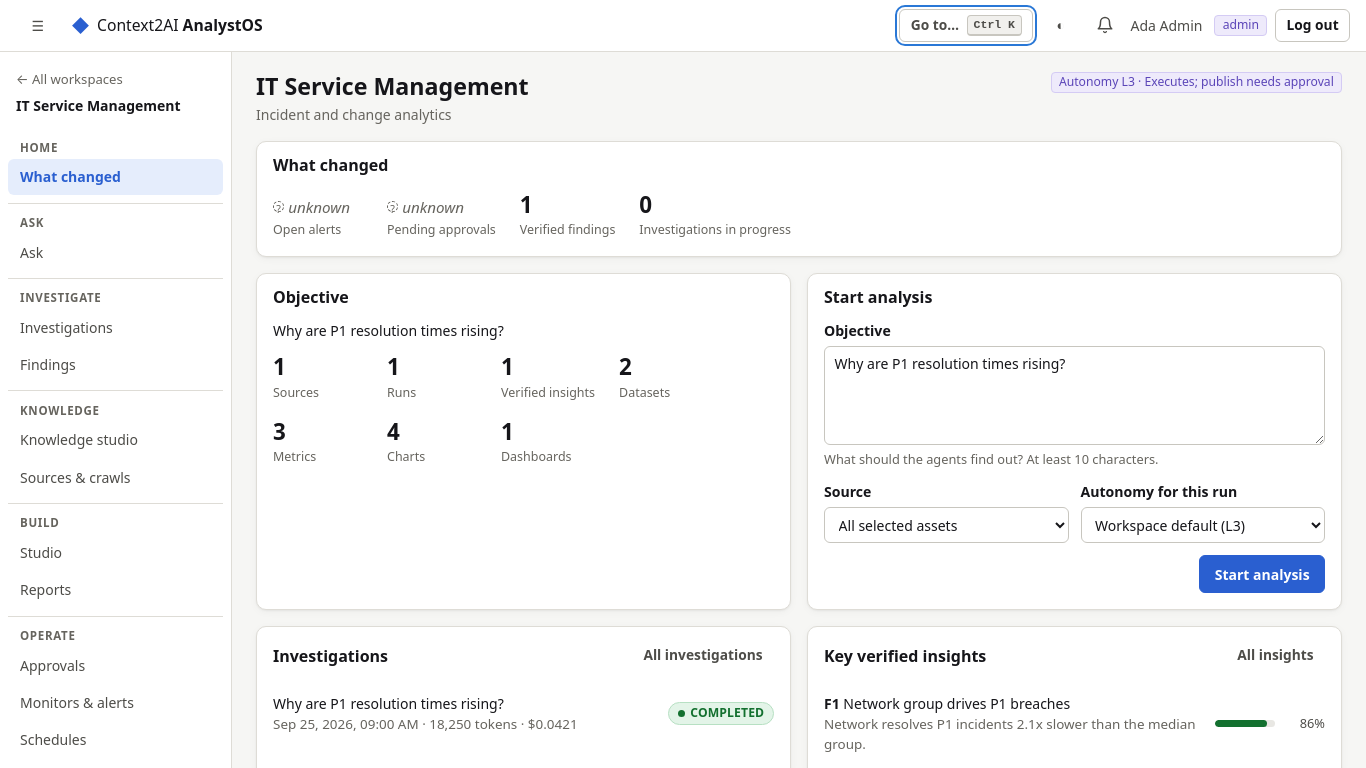
Test case: Ctrl/Cmd-K command palette › opens with Ctrl-K as a modal dialog, navigates with the keyboard and closes with Esc
The image size is (1366, 768).
Expected: the heading "IT Service Management" is shown, [256, 72, 529, 101]
Press k
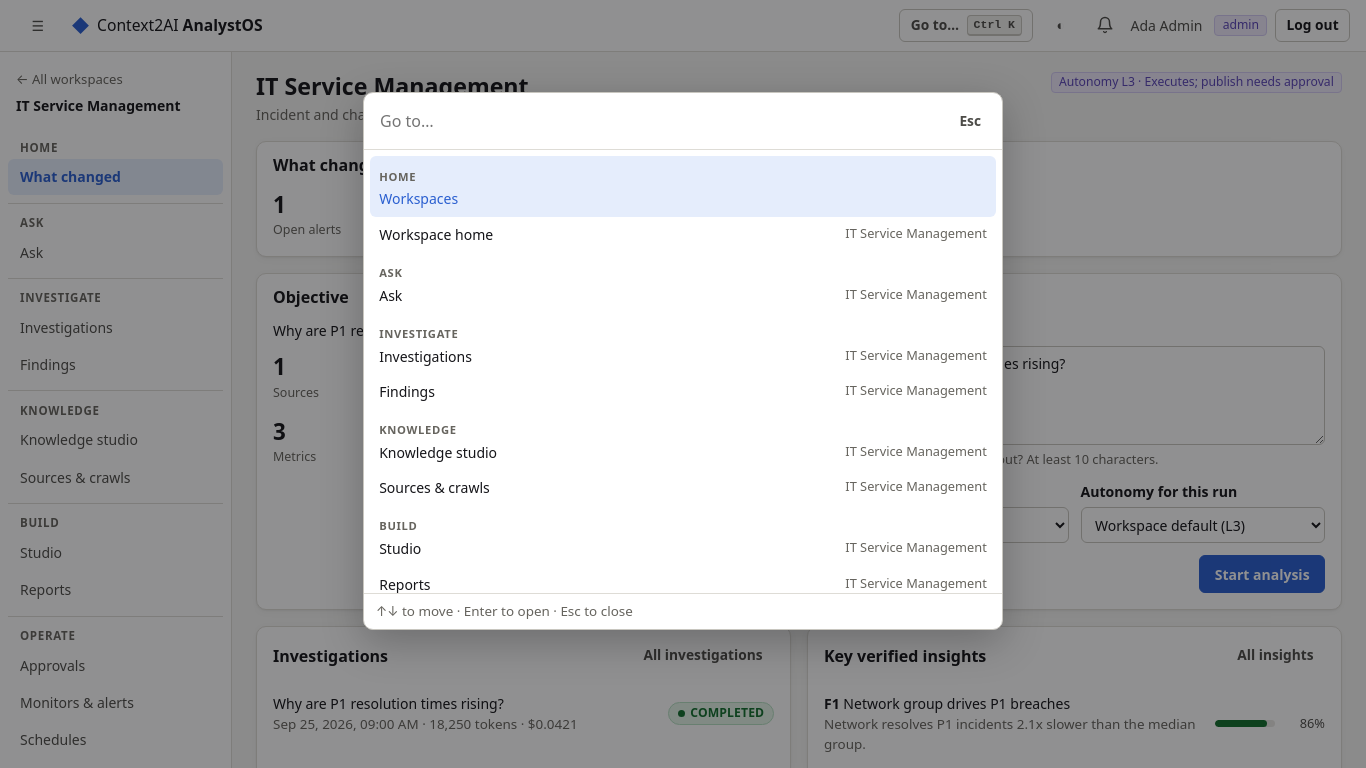
Type "catalog" into the dropdown.
click(657, 121); type("catalog")  # box [374, 103, 940, 140]
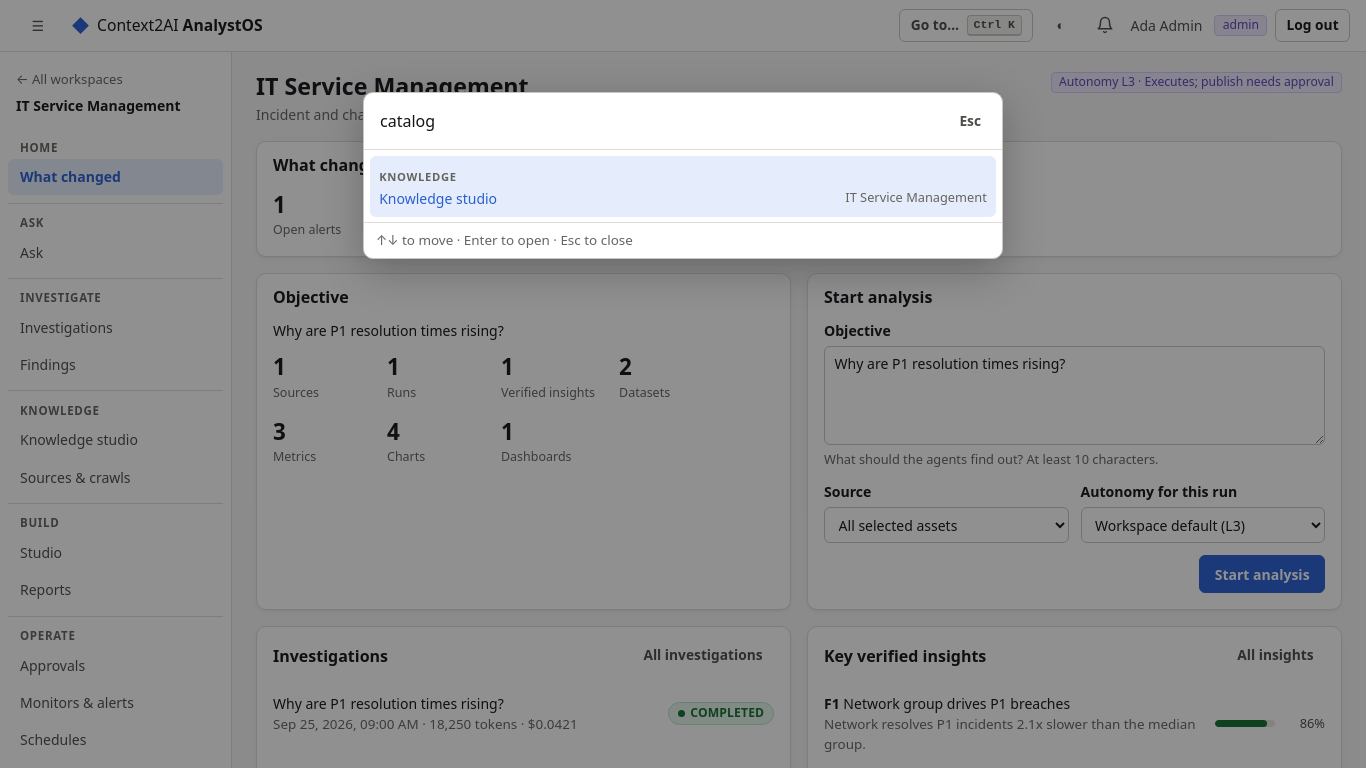
Now the number of options is 1, box [370, 156, 996, 217]
Press Enter in the dropdown, box [374, 103, 940, 140]
(page scrolled)
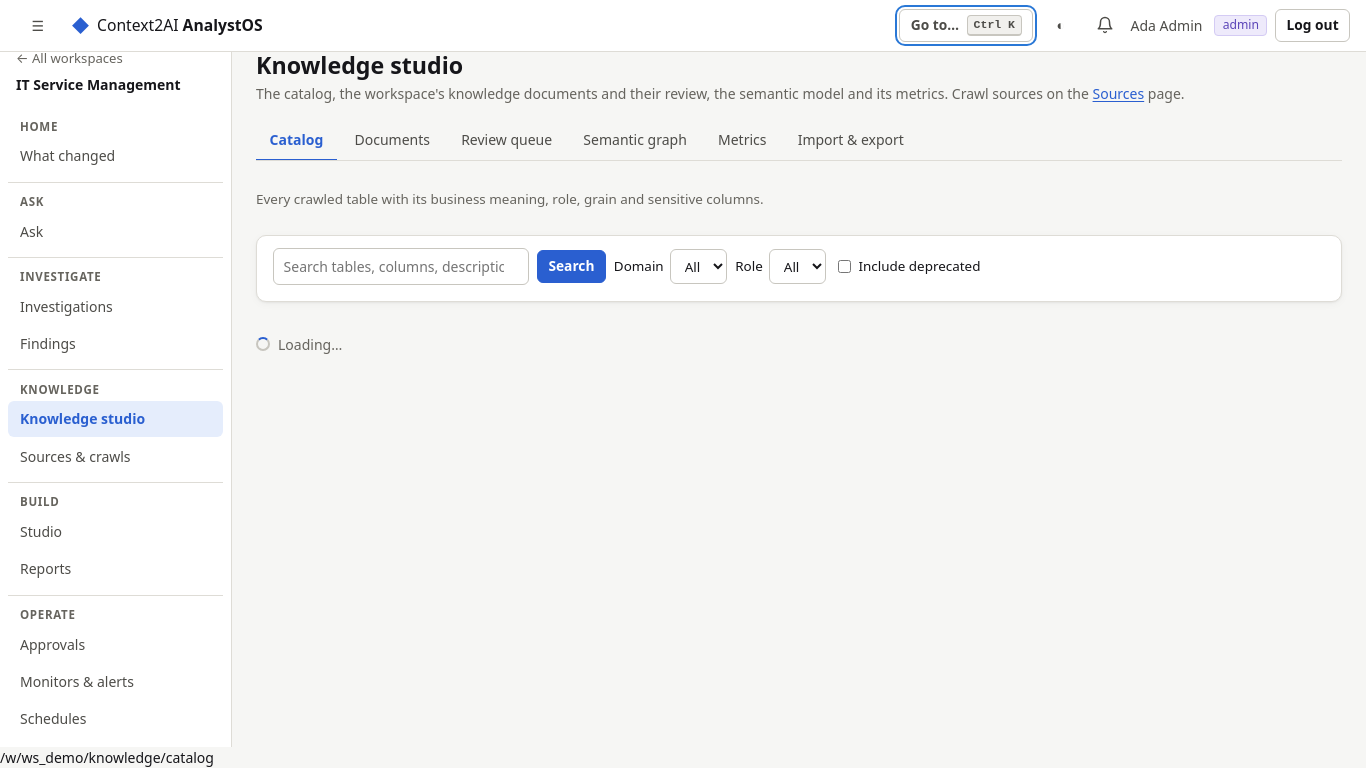
Now the dialog is gone
Press K
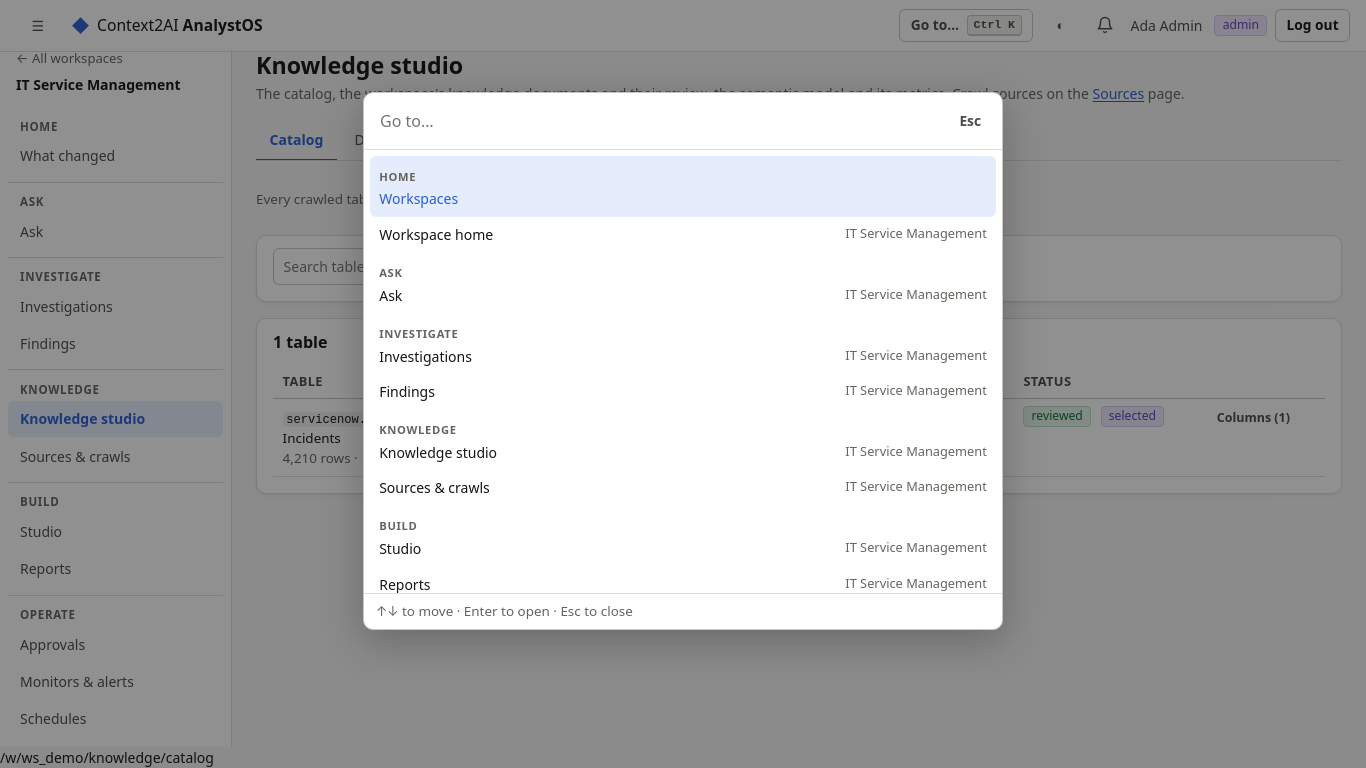
Press ArrowDown in the dropdown, box [374, 103, 940, 140]
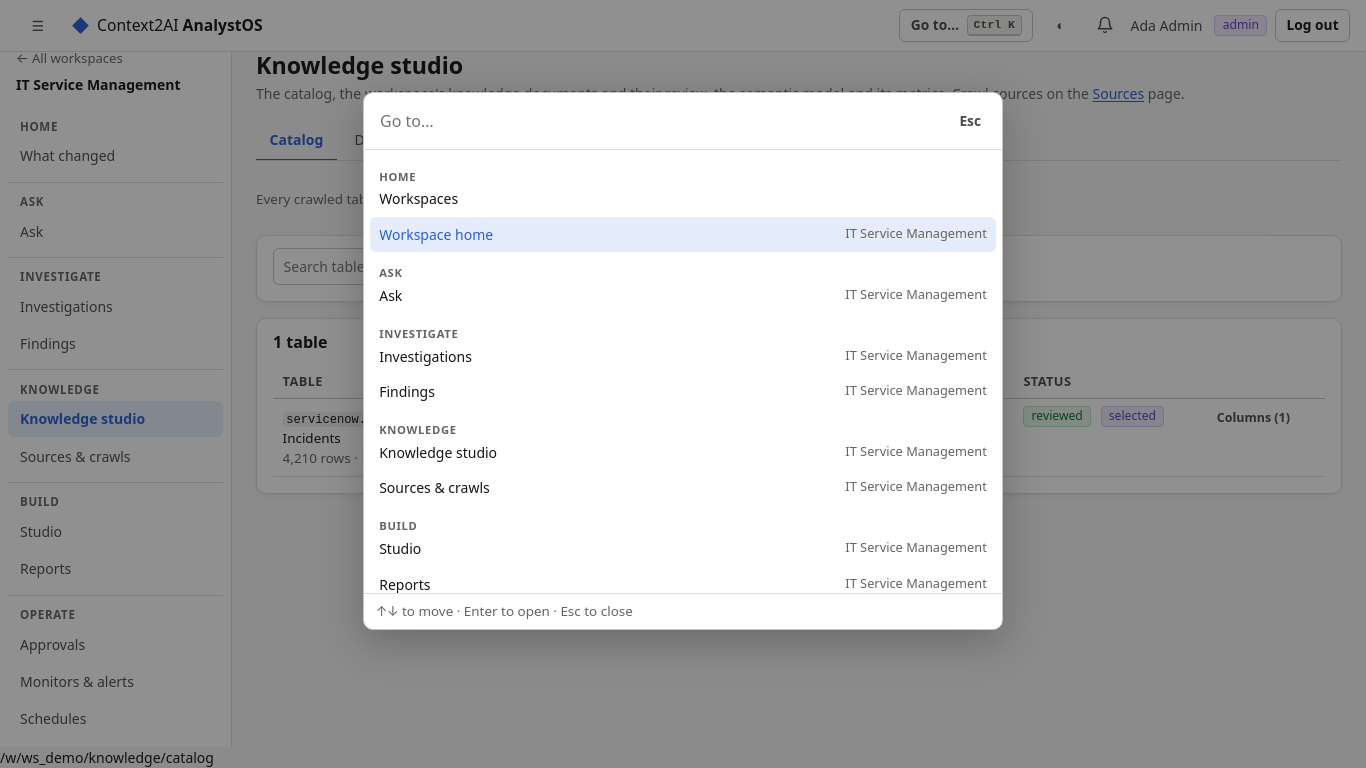
Now the option "Workspace home IT Service Management" is selected, box [370, 217, 996, 252]
Press Escape in the dropdown, box [374, 103, 940, 140]
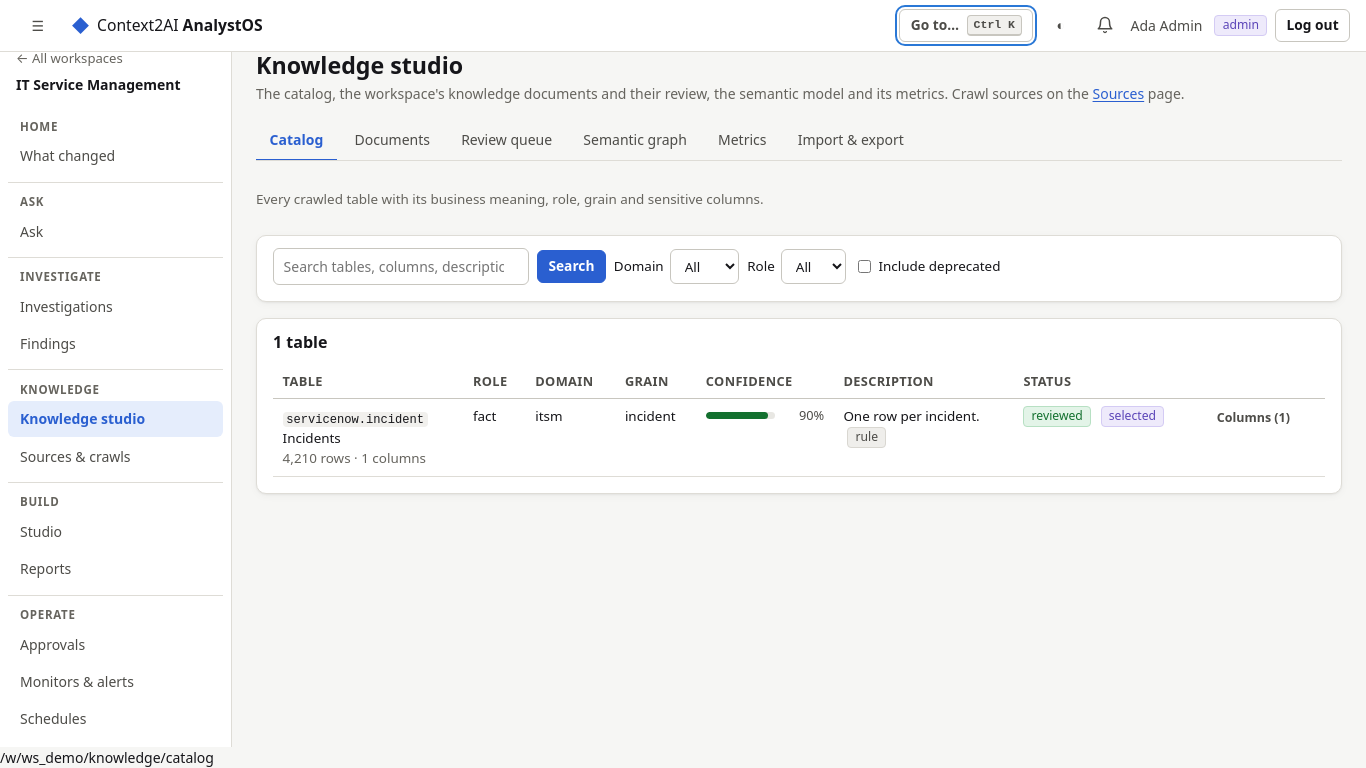
Now the dialog is gone
